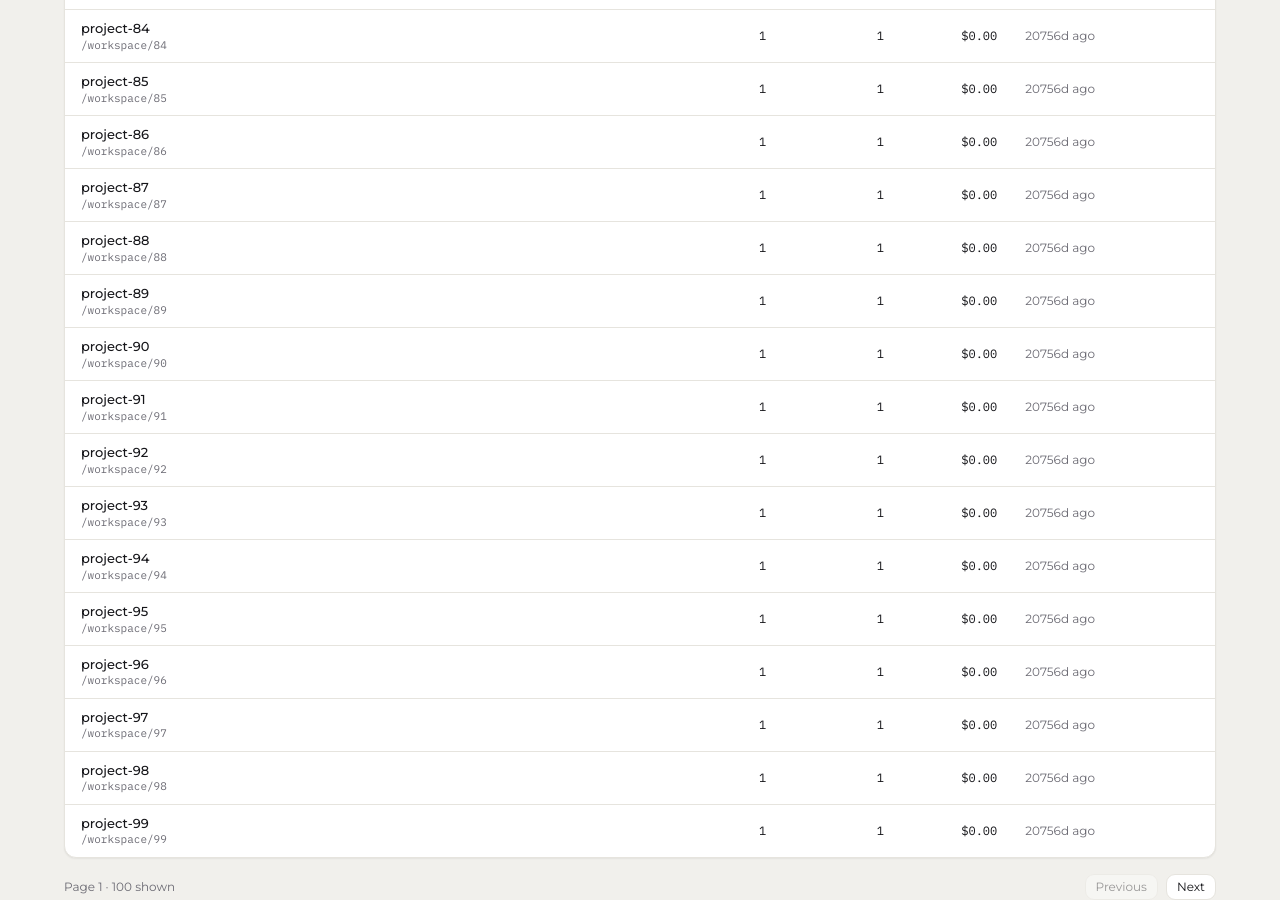
ProjectsOverview project-count budget › replaces one bounded project page with the next
(page scrolled)
Click the button "Next" at (1191, 887), box [1166,874,1216,899]
(page scrolled)
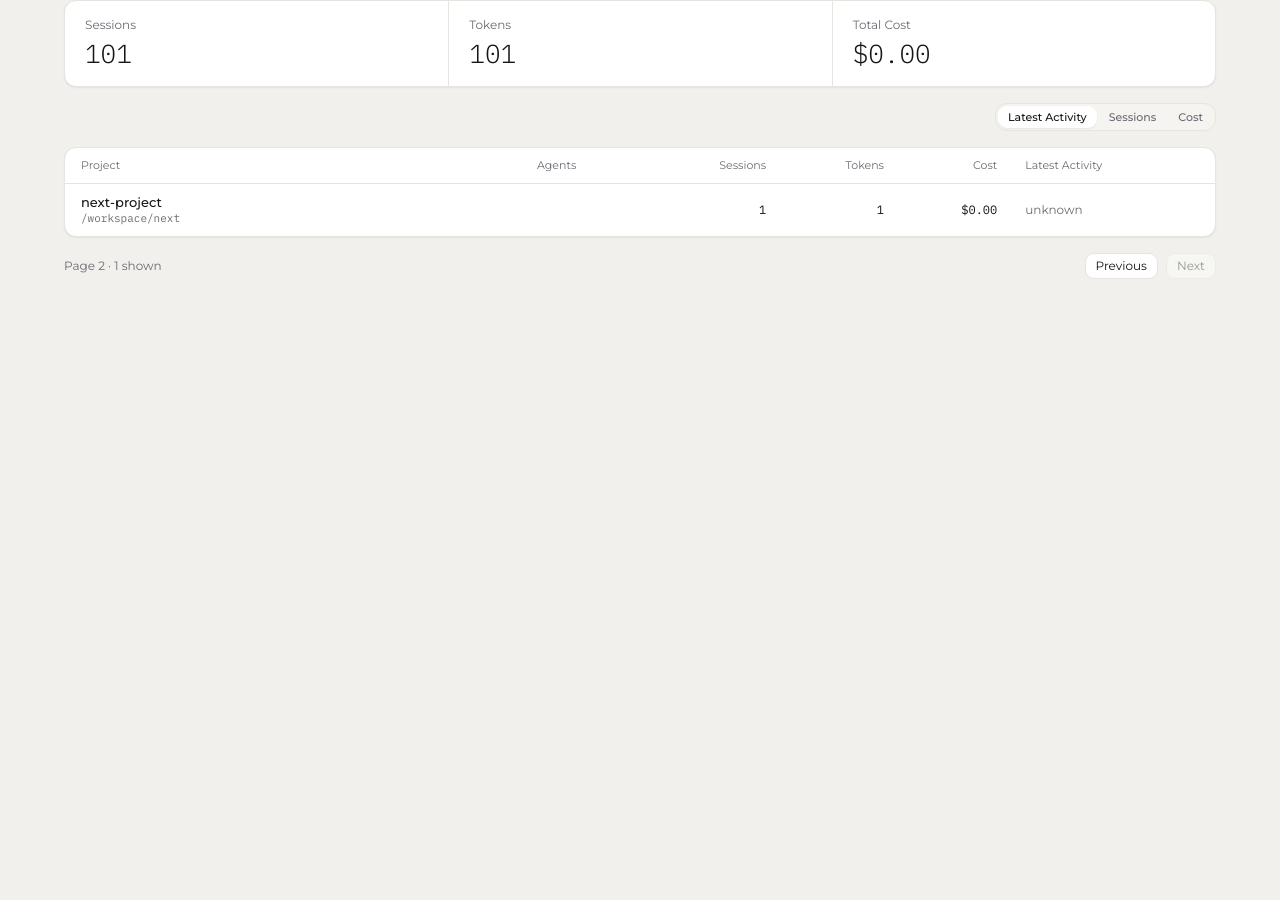
Expected: the link "next-project" is shown, [81,194,162,210]
Expected: the text "Page 2 · 1 shown" is shown, [64,258,162,274]
